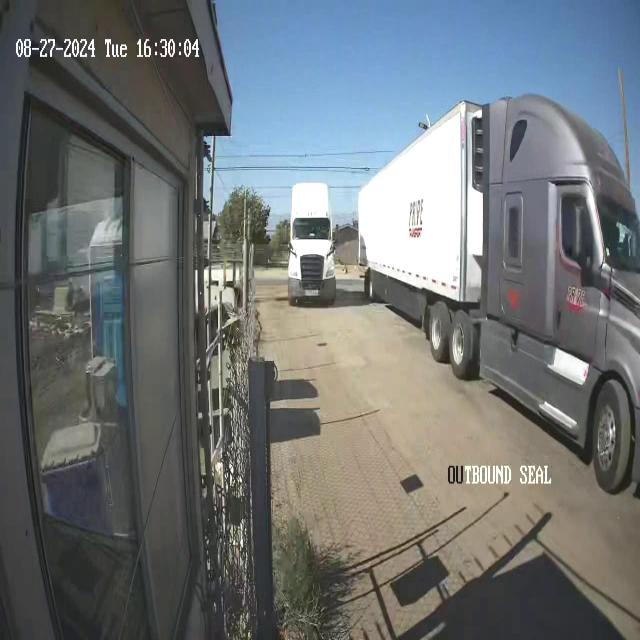CONTAINER: (358, 85, 492, 305)
